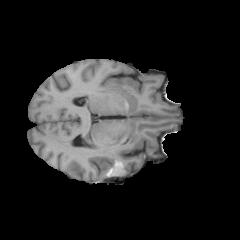glioma: (91, 146, 125, 181)
